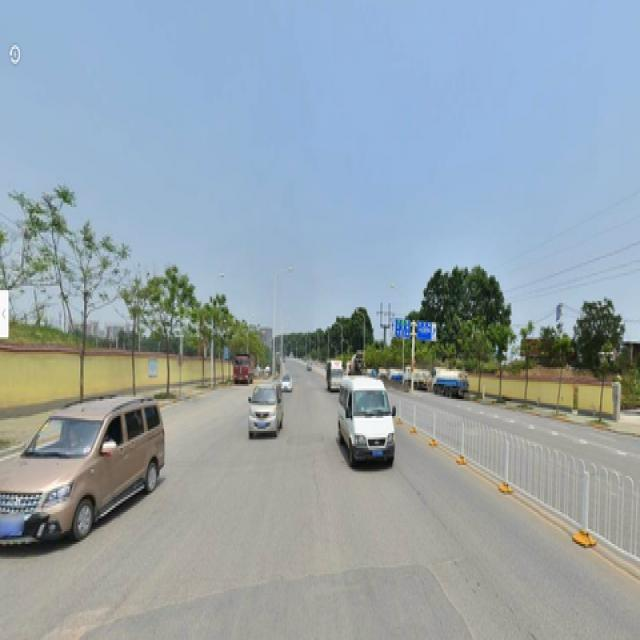koel: (39, 198, 97, 392), (119, 267, 148, 388), (160, 273, 188, 393)
